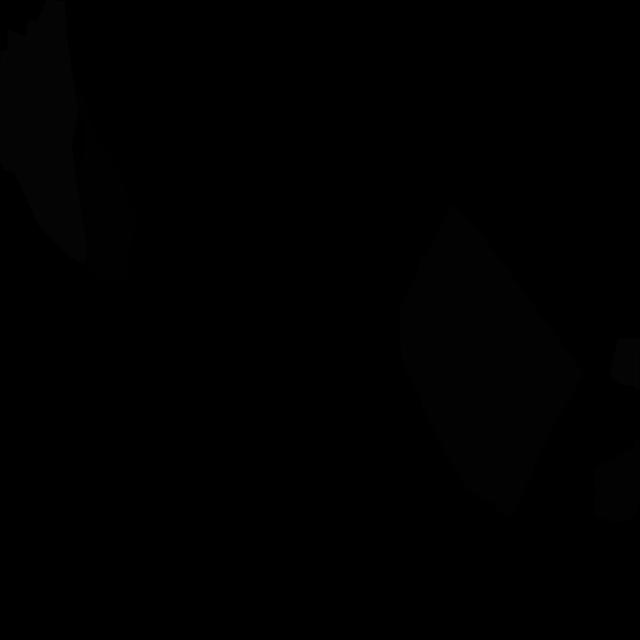cardboard: (400, 204, 584, 519), (593, 438, 640, 522)
rigid_plastic: (73, 84, 137, 283)
soft_plastic: (0, 0, 87, 263), (610, 337, 640, 390)
